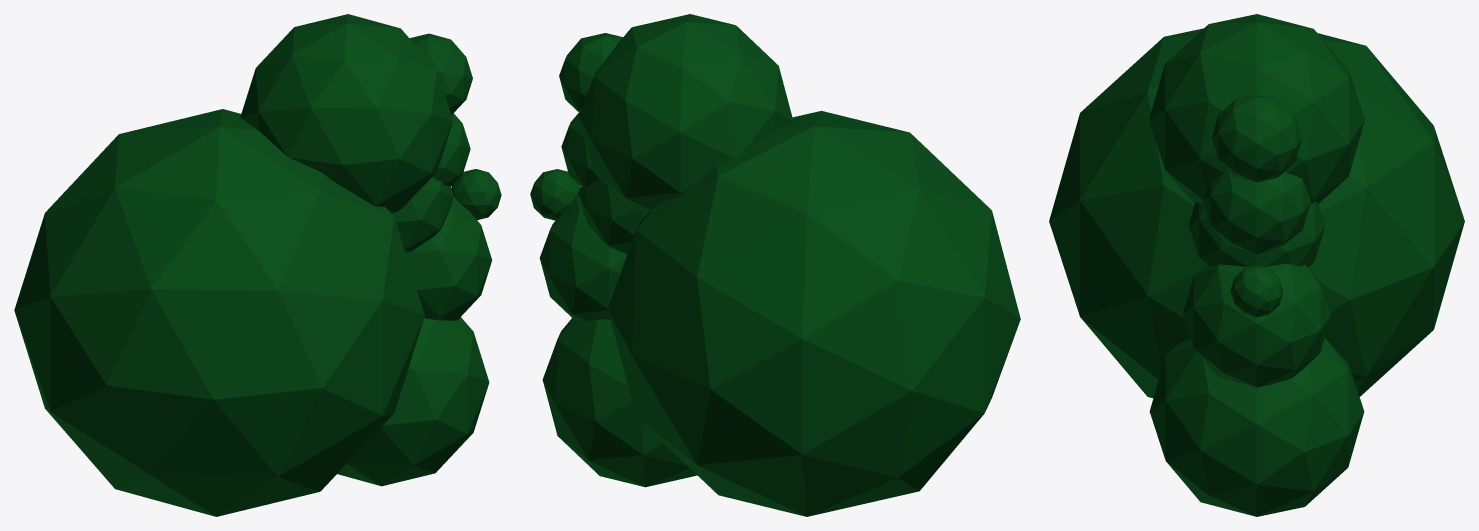
Rendered from BackGround.fbx.
The picture shows the model from 3 angles, left to right: view 1: azimuth 30°, elevation 25°; view 2: azimuth 150°, elevation 25°; view 3: azimuth 270°, elevation 25°; orthographic projection.
Visible parts, largest first — view 1: Icosphere; view 2: Icosphere; view 3: Icosphere.
Boxes of the visible parts, x1,y1,x2,y2 form: Icosphere: (14, 14, 501, 516); Icosphere: (530, 14, 1020, 516); Icosphere: (1049, 14, 1464, 516).
Bounding box in the file's own units: 1972 × 1953 × 1571.
